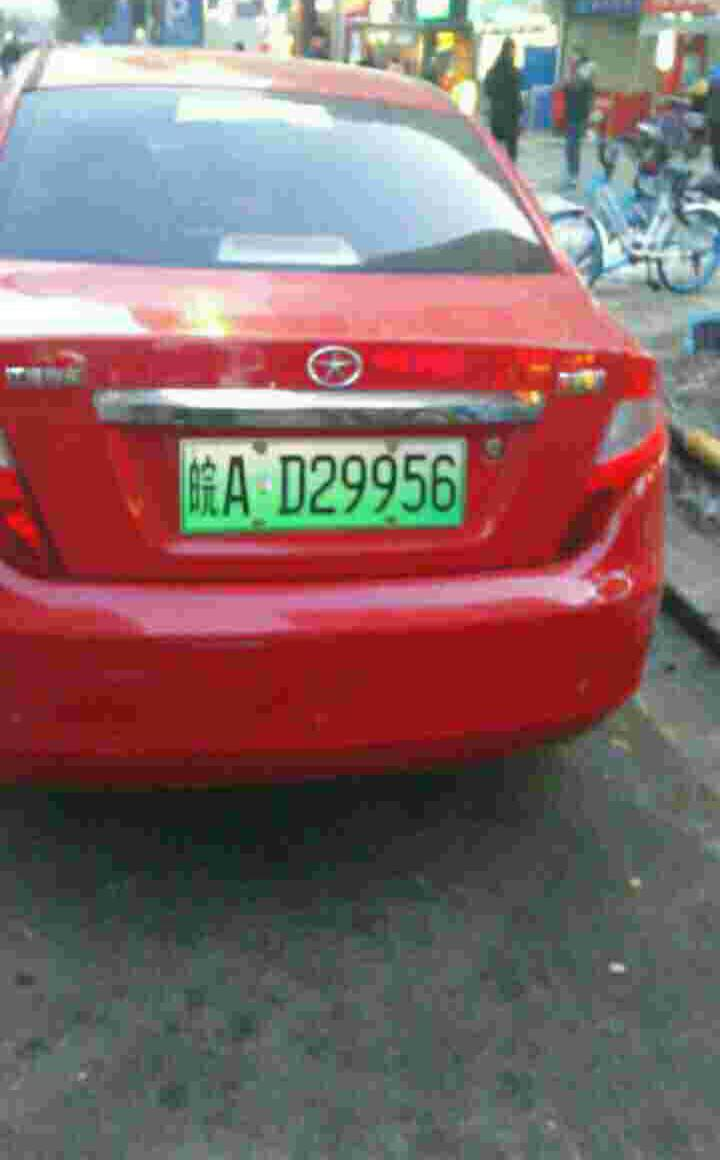car_green: (174, 428, 475, 532)
